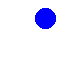circle: (35, 8, 55, 28)
